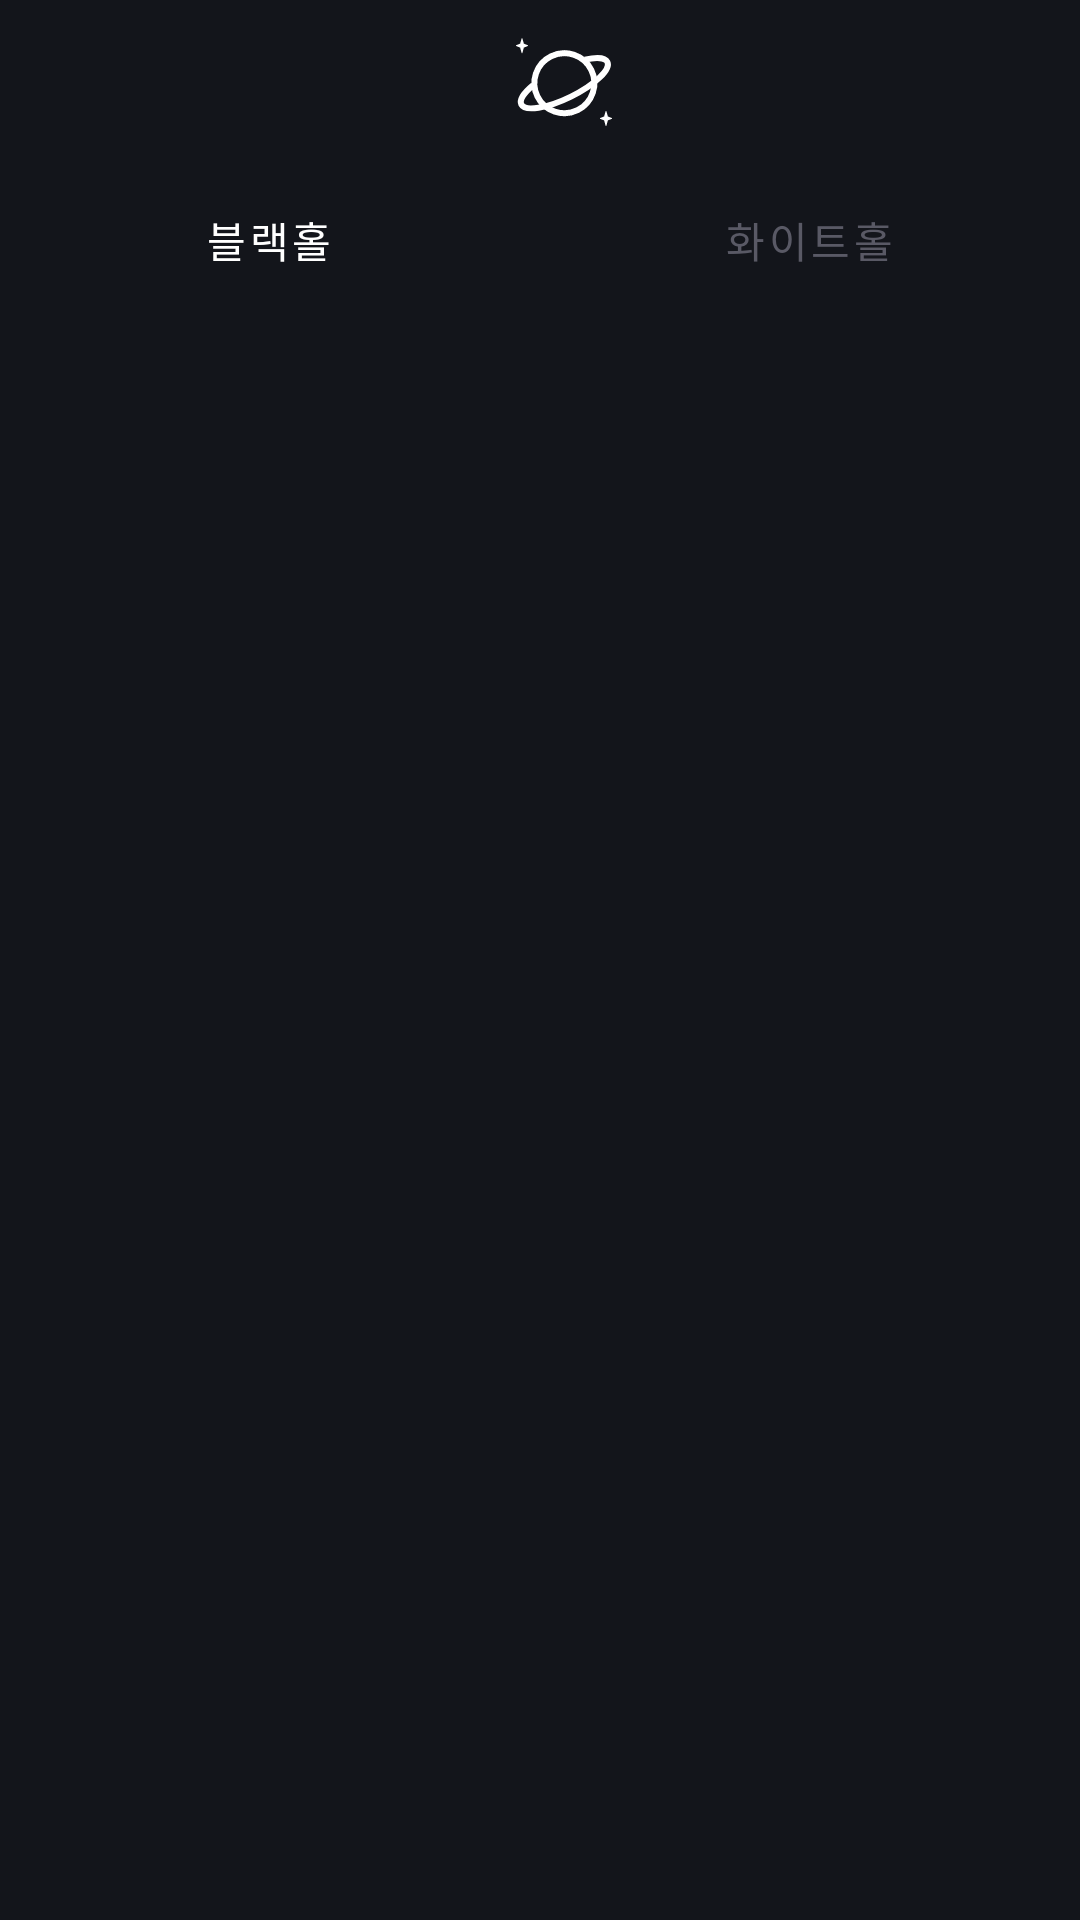

Point at icon controls on the screen. Image size 1080*1920, points as (x=x, y=y).
planet toolbar: (x=564, y=82)
